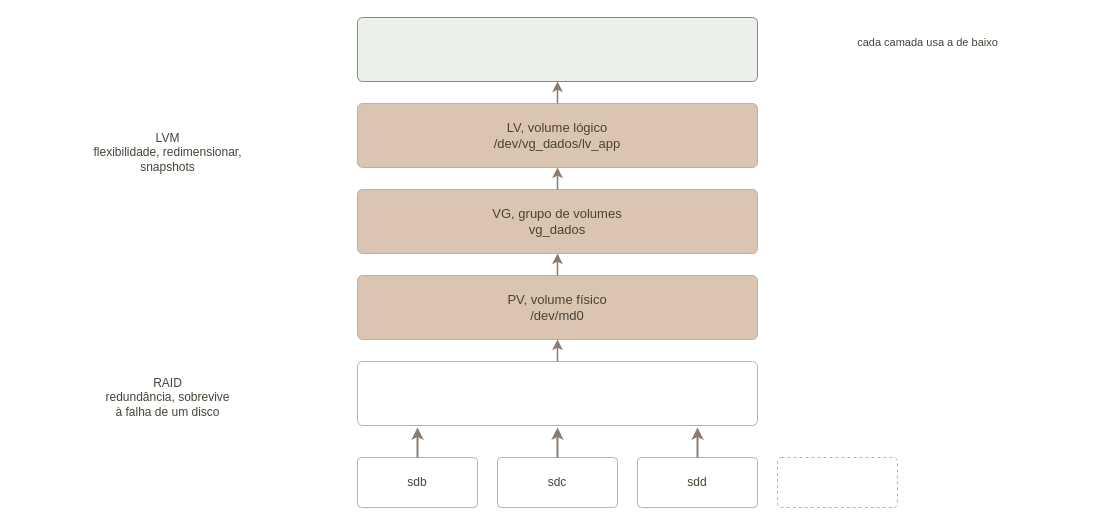
The diagram is 1094 pixels wide and 525 high, and some of its shapes have lost their labels. Here are the shapes that lost their labels. From the top down, the centre of each, then its label:
At point (557, 49): "Sistema de ficheiros ext4".
At point (557, 393): "Array RAID 5 (mdadm) /dev/md0".
At point (837, 482): "sde (spare)".
